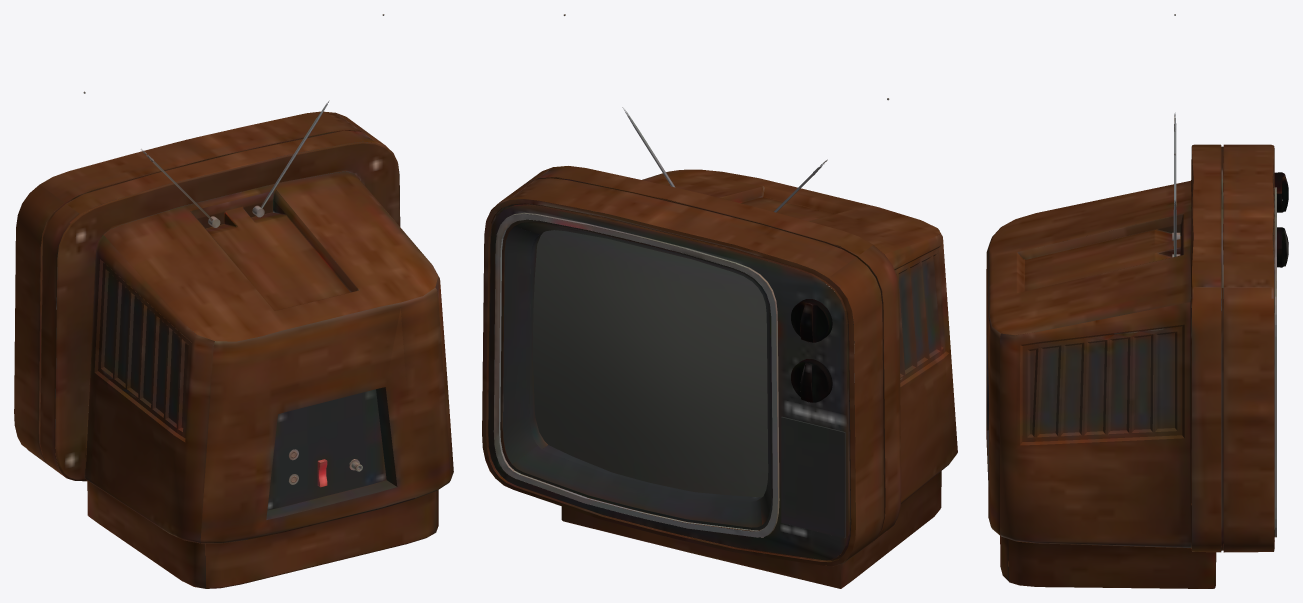
File: d_tele_madera.glb
3 views of the same model, side by side, from view 1: azimuth 30°, elevation 25°; view 2: azimuth 150°, elevation 25°; view 3: azimuth 270°, elevation 25° (orthographic). The views are drawn at different scales.
Visible parts, largest first — view 1: Object_2; view 2: Object_2; view 3: Object_2.
Part boxes in pixels (x1=…): Object_2: x1=14, y1=14, x2=453, y2=588; Object_2: x1=482, y1=14, x2=957, y2=588; Object_2: x1=986, y1=14, x2=1288, y2=588.
Bounding box in the file's own units: 0.443 × 0.55 × 0.3382.
Materials: 1 (1 with a texture image).
